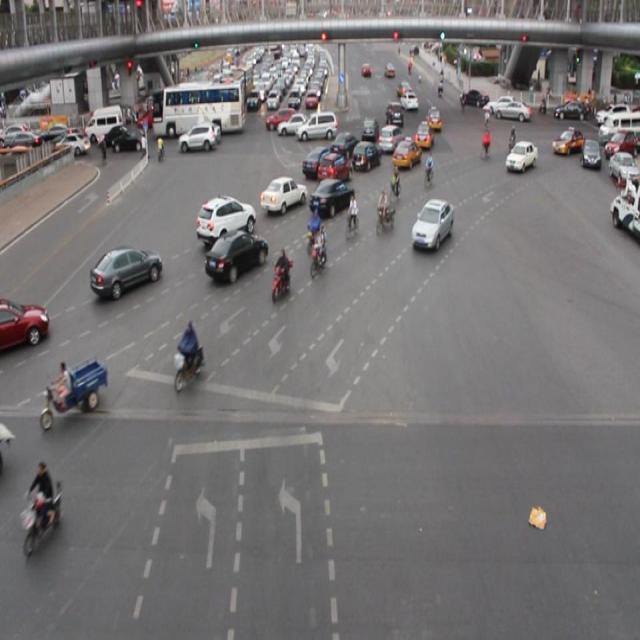car: (91, 243, 162, 294), (206, 228, 270, 279), (196, 194, 256, 244), (1, 294, 49, 347), (411, 196, 453, 248), (307, 176, 356, 216), (259, 175, 307, 214), (317, 151, 352, 187), (504, 140, 537, 172), (392, 135, 420, 170), (301, 145, 332, 176), (351, 138, 381, 170), (551, 127, 584, 156), (330, 130, 360, 159), (377, 122, 403, 154), (412, 122, 432, 148)
